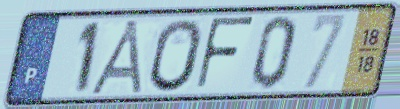0: (248, 13, 299, 93)
1: (73, 19, 104, 97)
7: (301, 11, 352, 92)
A: (86, 17, 148, 96)
F: (192, 15, 258, 94)
O: (147, 17, 205, 95)
